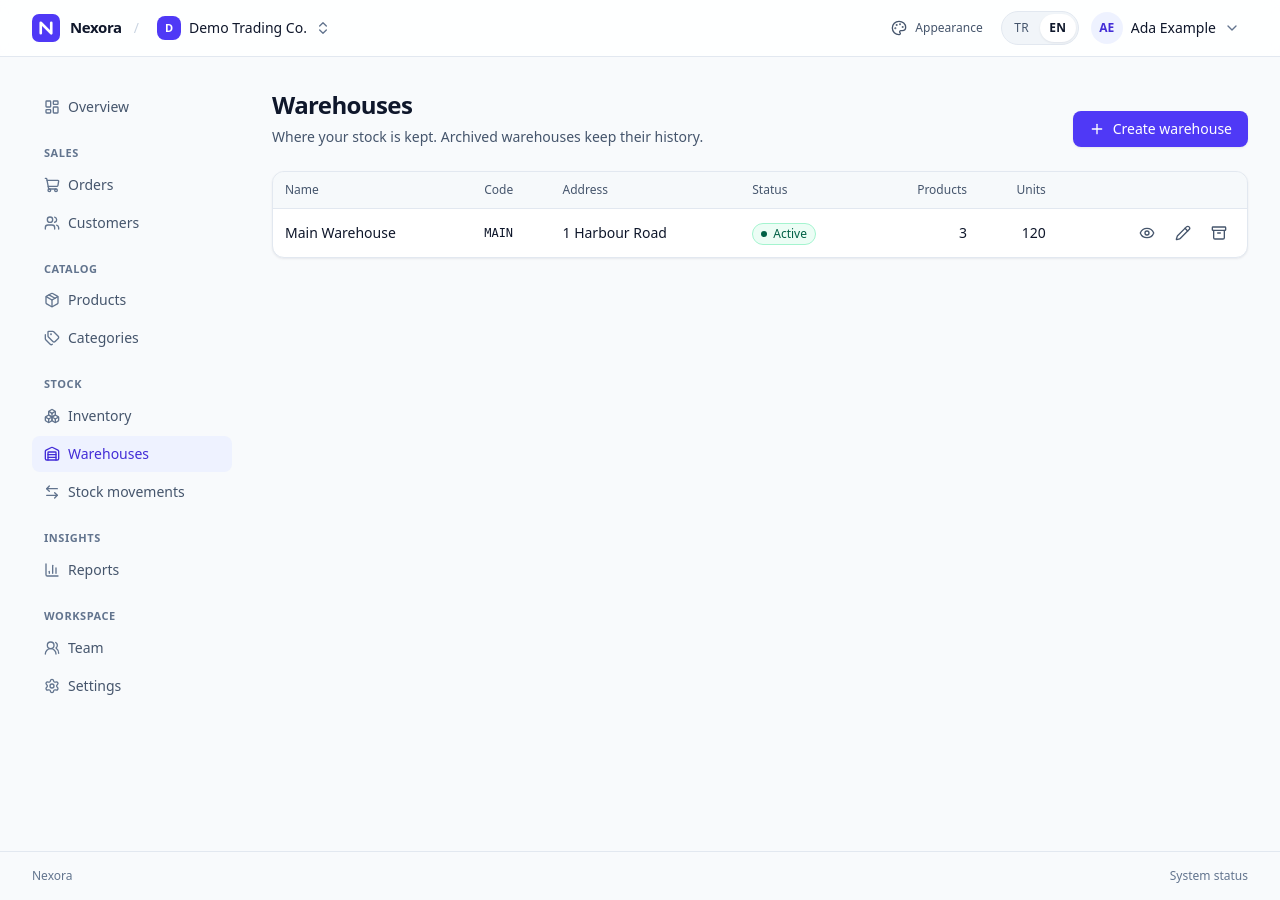
WarehousesPage › edits name and address; the code is read-only
The image size is (1280, 900).
Expected: the heading "Warehouses" is shown, [272,88,412,121]
Click the button named "Edit Main Warehouse" at (1183,233), box [1167,217,1199,249]
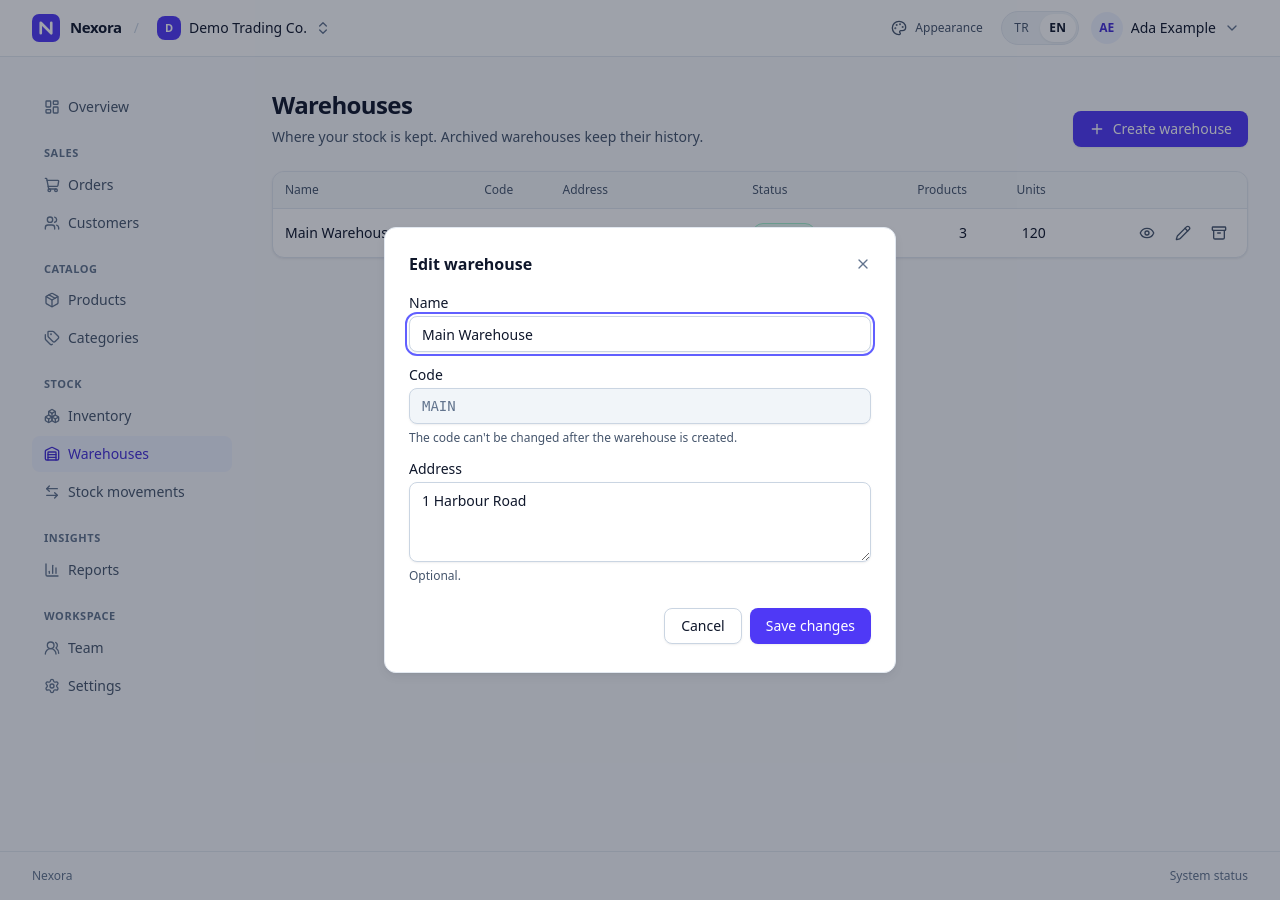
Expected: the field labelled "Code" is disabled, [409,388,871,424]
Replace the text in the field labelled "Name" with "Main Hub" at (640,334), box [409,316,871,352]
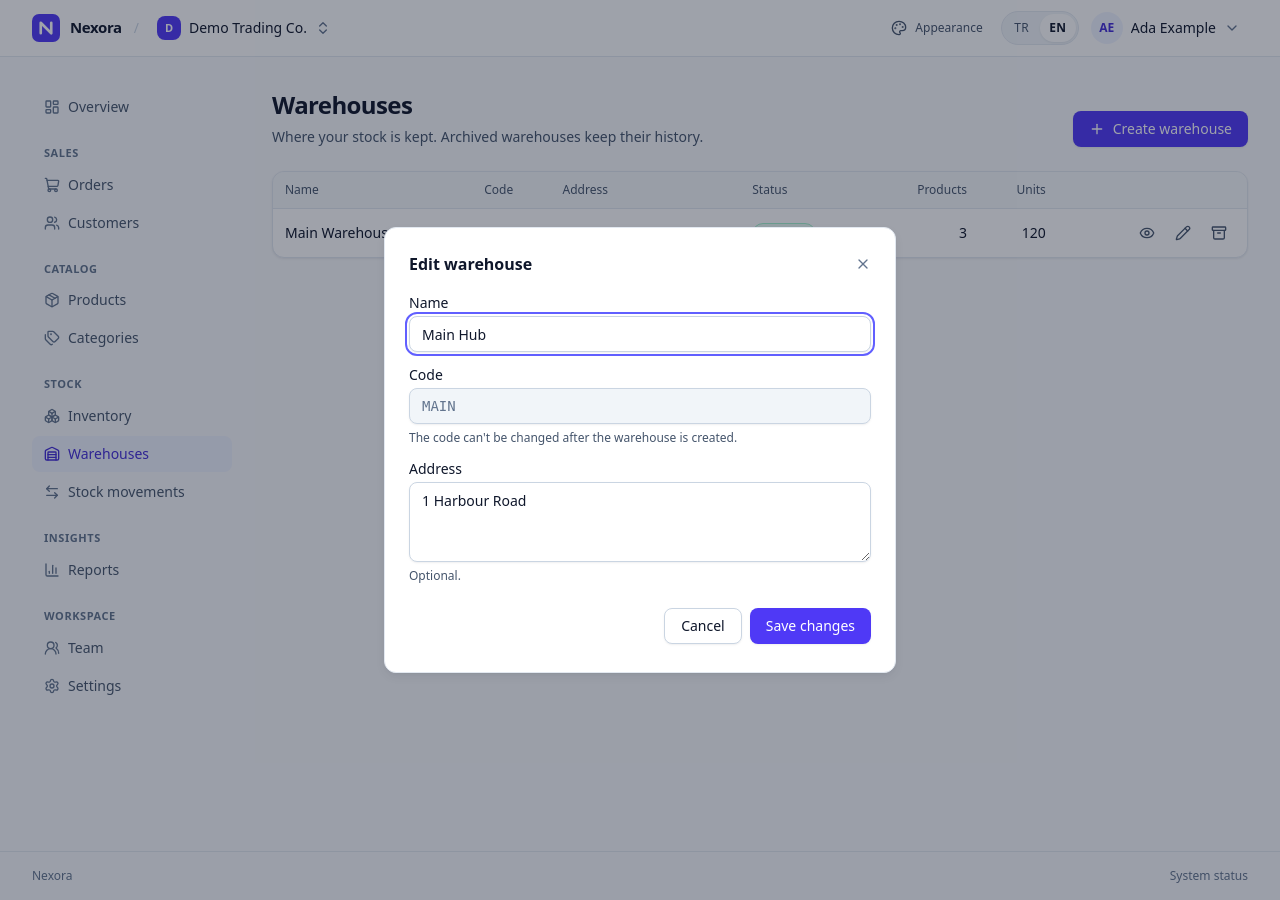
Click the button "Save changes" at (810,626), box [750,608,871,644]
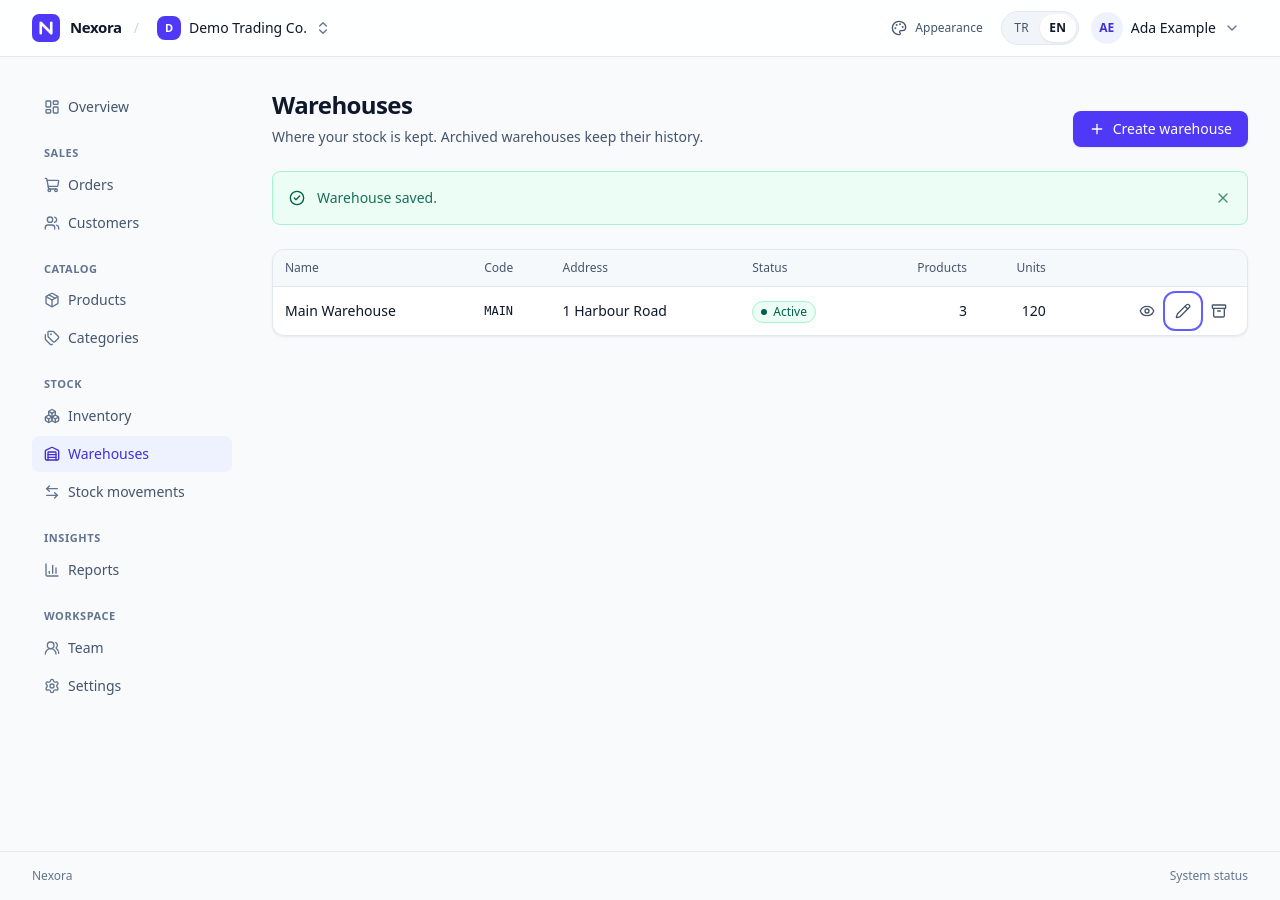
Expected: the text "Warehouse saved." is shown, [317,188,437,207]
